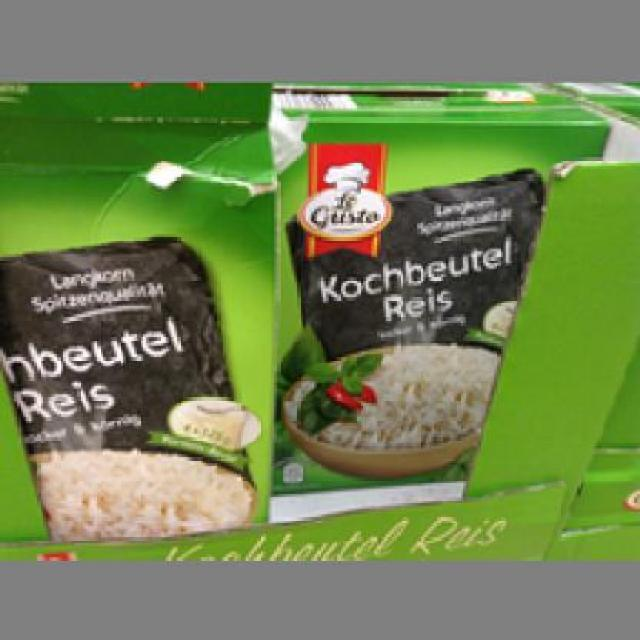Rice: (274, 89, 610, 488), (0, 120, 263, 537)
